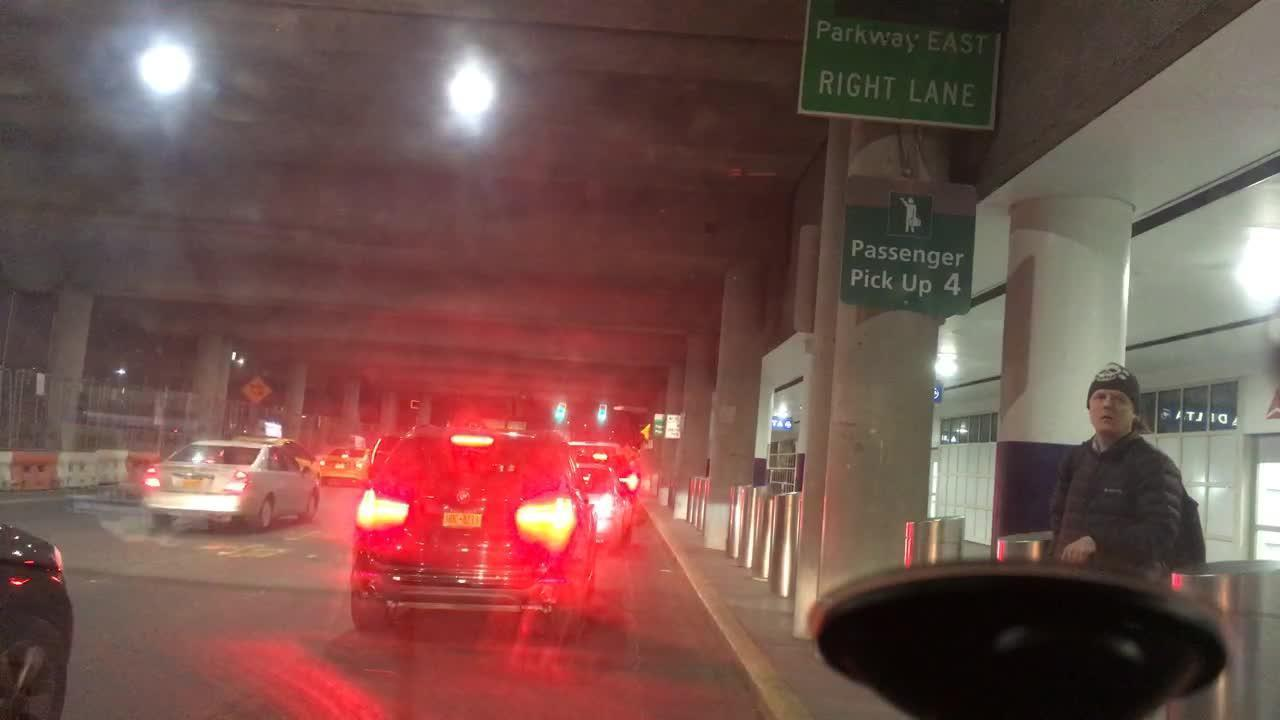bmw: (451, 489, 479, 510)
